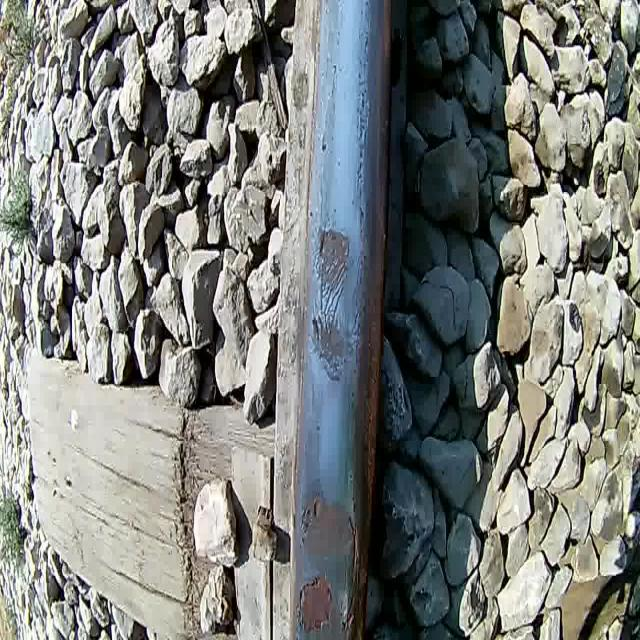Cracks: (341, 504, 366, 639), (318, 254, 349, 335)
Spallings: (293, 568, 337, 636), (298, 492, 324, 548)
Squats: (297, 492, 353, 569), (306, 307, 354, 386), (313, 218, 355, 296)
